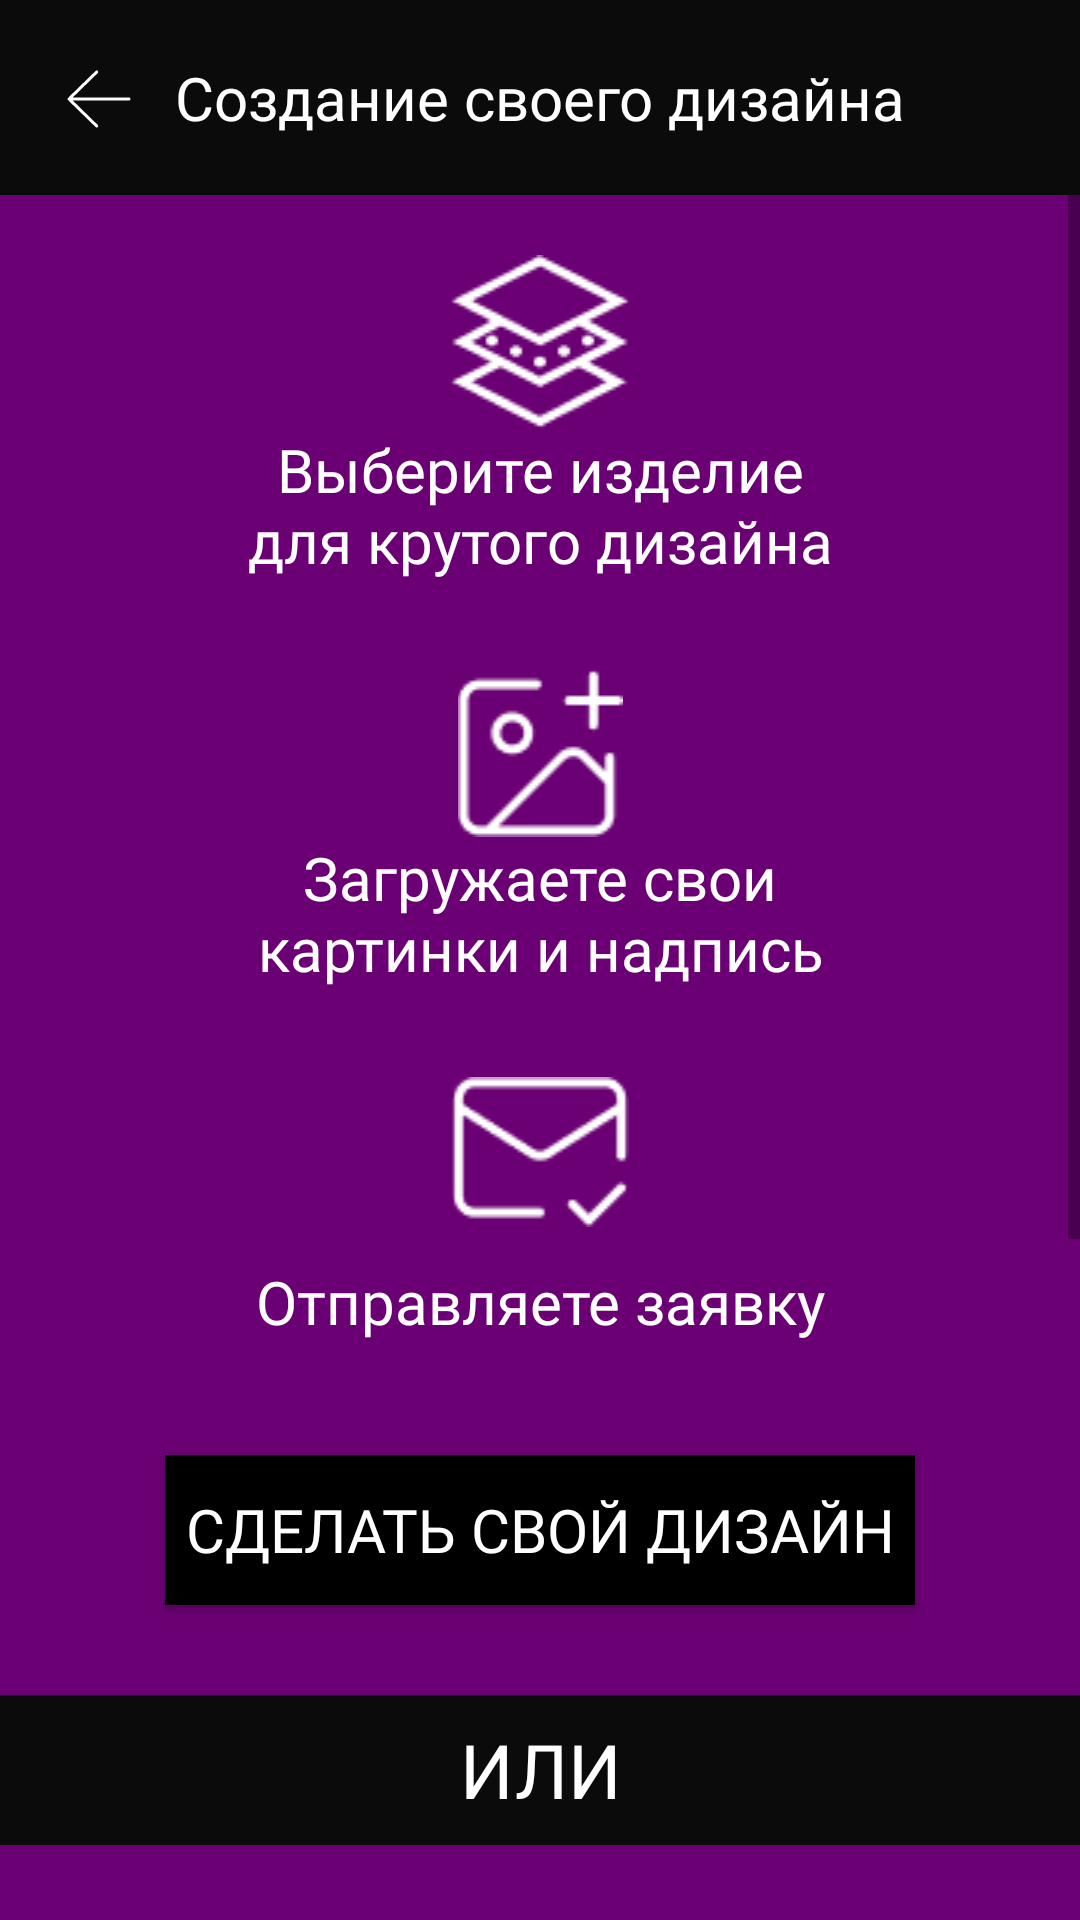

Named icons in this screenshot (1080 × 1920) and their centers, (x,y):
back: (99,99)
letter: (540,1152)
